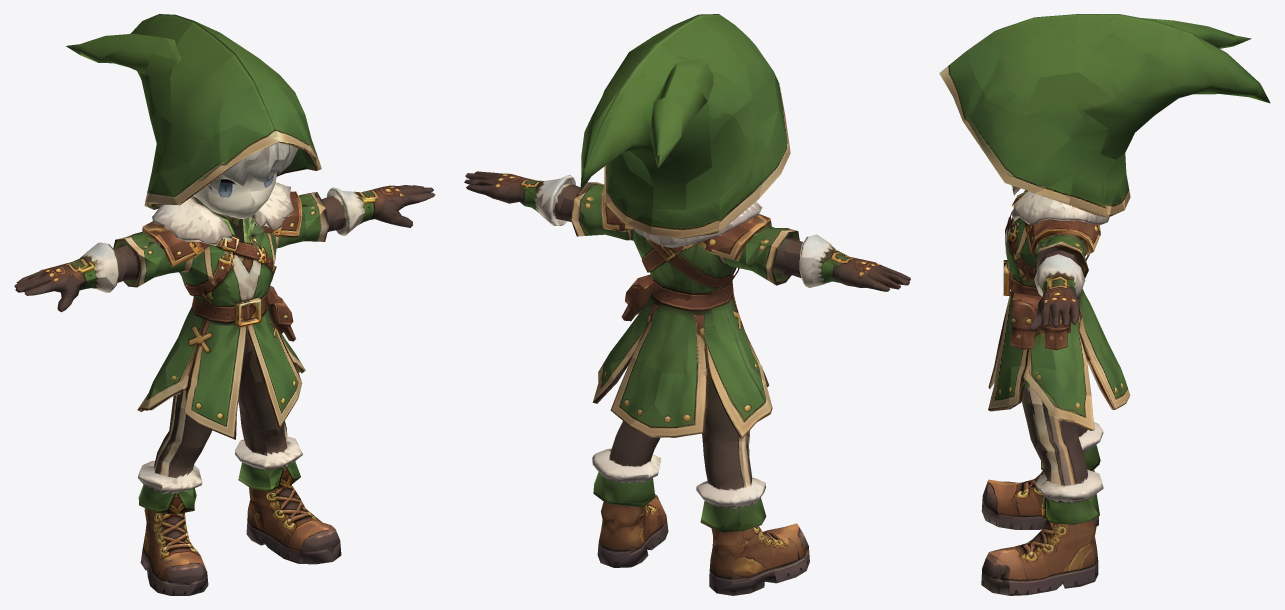
Rendered from ranger_meshy.glb.
3 views of the same model, side by side, from view 1: azimuth 30°, elevation 25°; view 2: azimuth 150°, elevation 25°; view 3: azimuth 270°, elevation 25° (orthographic). The views are drawn at different scales.
Size of the model in its own units: 1.7 by 2 by 1.12.
Materials: 1 (1 with a texture image).
